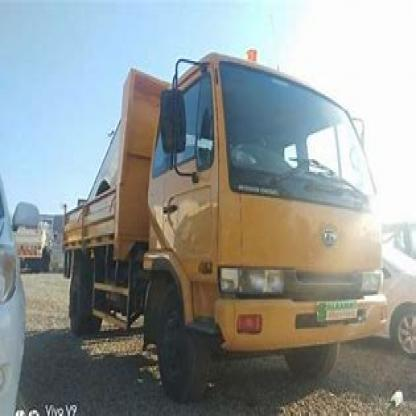dump_truck: (52, 46, 390, 394)
